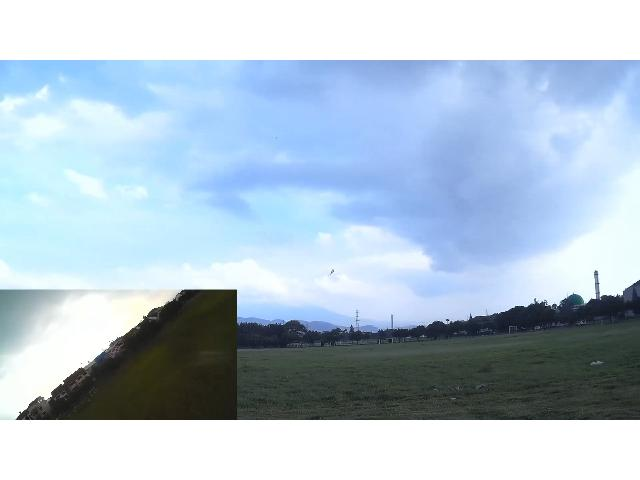Anti-Drone: (328, 269, 334, 275)
